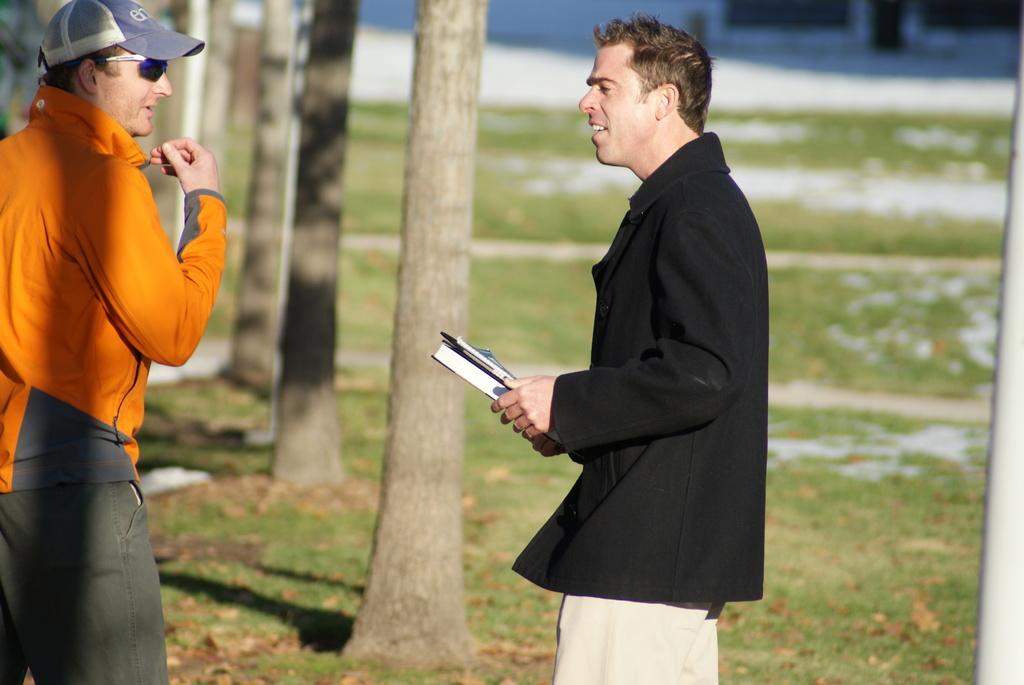Hat: (36, 0, 204, 62)
